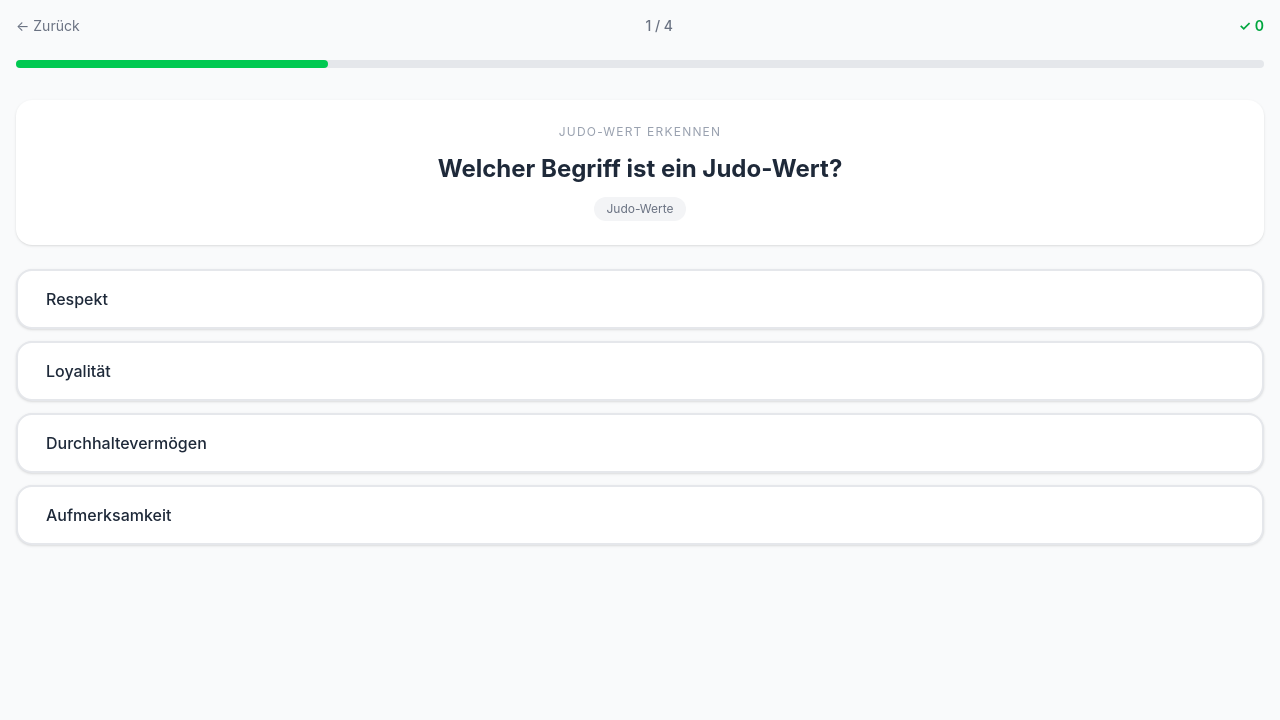
Test: Quiz – Judo-Werte › shows meaning as hint after answering
This screenshot has width=1280, height=720.
Click the button with test id "choice-correct" at (77, 299), box [16,269,1264,329]
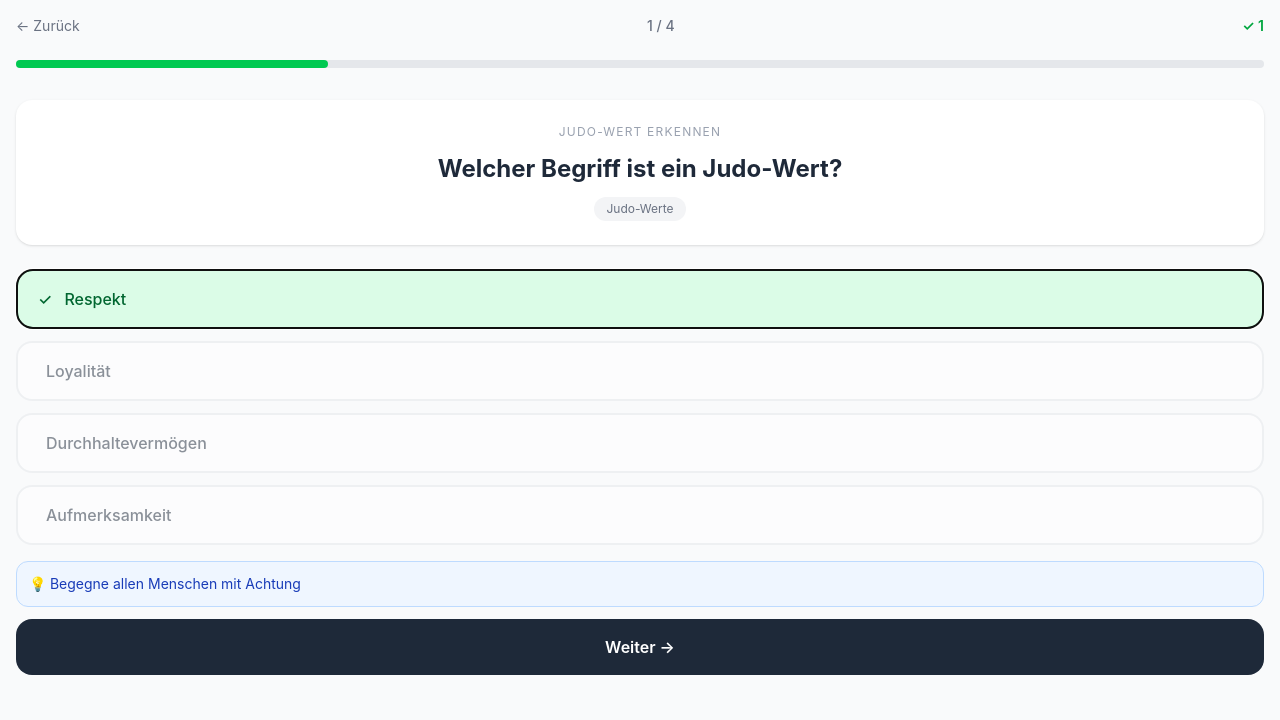
Expected: the text "💡 Begegne allen Menschen mit Achtung" is shown, [16,561,1264,607]
